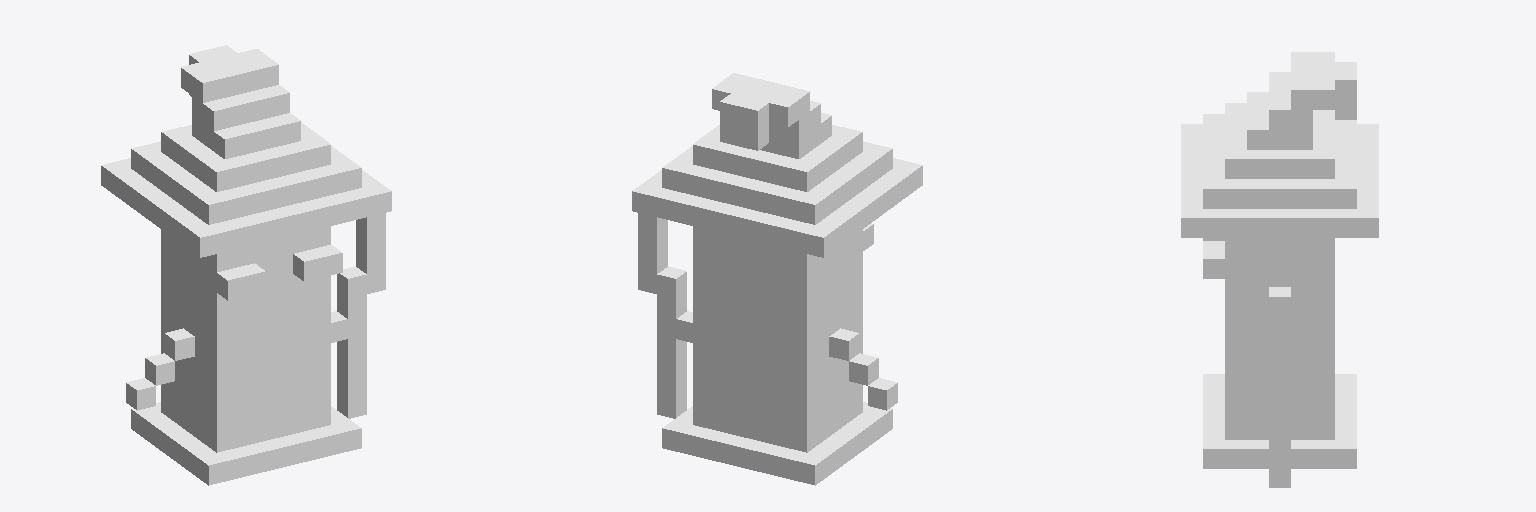
Rendered from WizardCharacter.obj.
The picture shows the model from 3 angles: view 1: azimuth 30°, elevation 25°; view 2: azimuth 150°, elevation 25°; view 3: azimuth 270°, elevation 25°; orthographic projection.
Bounding box in the file's own units: 13 × 18 × 9.